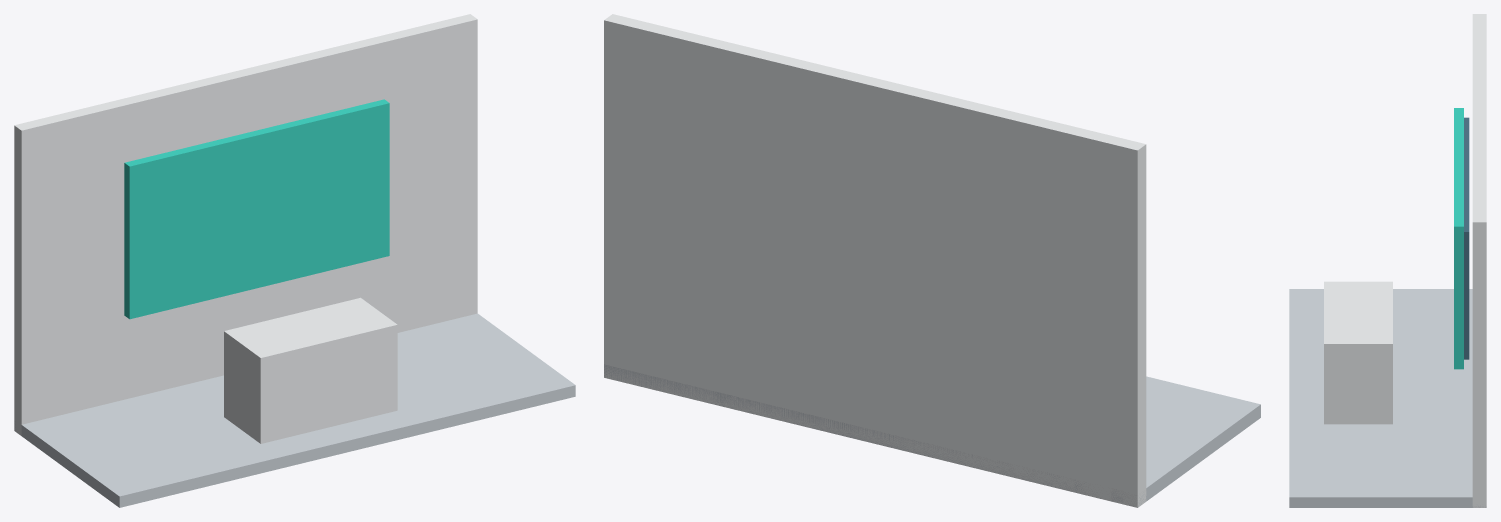
The picture shows the model from 3 angles, left to right: view 1: azimuth 30°, elevation 25°; view 2: azimuth 150°, elevation 25°; view 3: azimuth 270°, elevation 25°; orthographic projection. The views are drawn at different scales.
Parts seen in each view (by area): view 1: Exhibition Booth Concept; view 2: Exhibition Booth Concept; view 3: Exhibition Booth Concept.
Boxes of the visible parts, x1=… form: Exhibition Booth Concept: x1=14, y1=14, x2=575, y2=507; Exhibition Booth Concept: x1=604, y1=14, x2=1260, y2=507; Exhibition Booth Concept: x1=1289, y1=14, x2=1486, y2=507.
Size of the model in its own units: 5 by 3.2 by 2.
